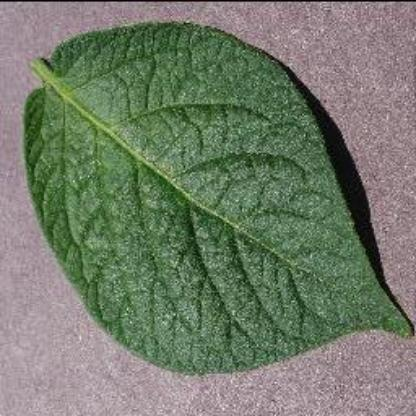Healthy-plant: (21, 21, 416, 369)
